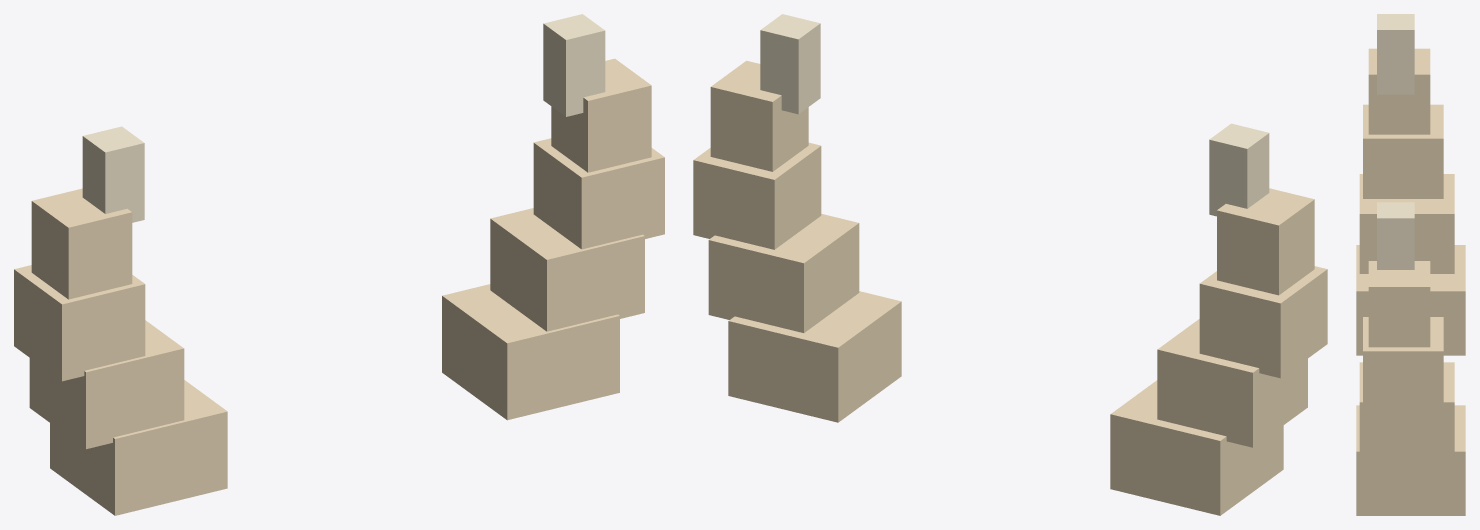
Rendered from chifres_oni_par.glb.
3 renders of one model, left to right at view 1: azimuth 30°, elevation 25°; view 2: azimuth 150°, elevation 25°; view 3: azimuth 270°, elevation 25°, orthographic. The views are drawn at different scales.
Visible parts, largest first — view 1: chifres_oni_par; view 2: chifres_oni_par; view 3: chifres_oni_par.
Part boxes in pixels (x1=…): chifres_oni_par: x1=14, y1=14, x2=664, y2=515; chifres_oni_par: x1=693, y1=14, x2=1327, y2=515; chifres_oni_par: x1=1356, y1=14, x2=1465, y2=515.
Bounding box in the file's own units: 0.615 × 0.345 × 0.115.
